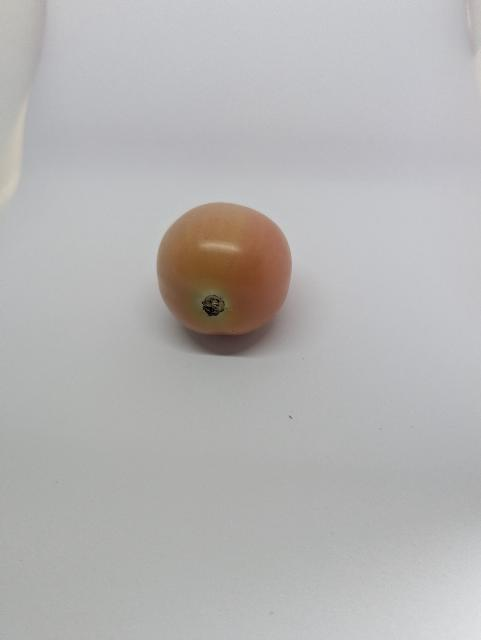turning: (151, 201, 301, 352)
